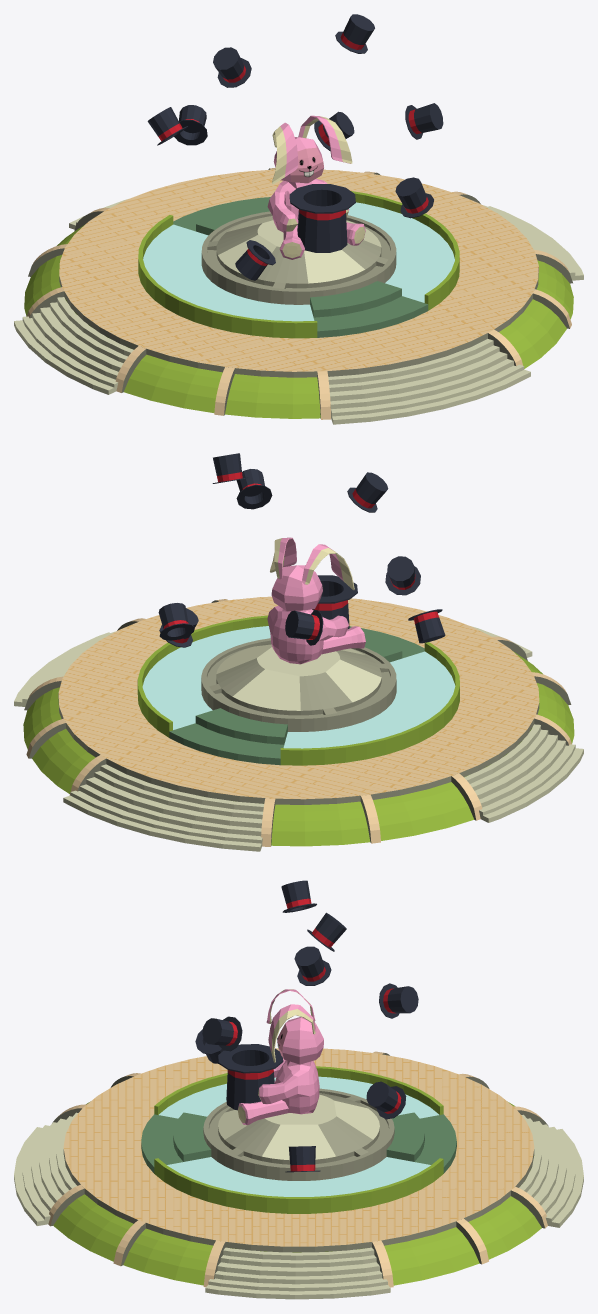
File: D4_Roundabout_2.fbx
The picture shows the model from 3 angles, top to bottom: view 1: azimuth 30°, elevation 25°; view 2: azimuth 150°, elevation 25°; view 3: azimuth 270°, elevation 25°; orthographic projection. The views are drawn at different scales.
Parts seen in each view (by area): view 1: Circle.034, Circle.054, Circle.053, Circle.035, Cylinder.132, Circle.051, Circle.044, Circle.052, Cylinder.134, Circle.046, Cylinder.137, Cylinder.141 (+10 smaller); view 2: Circle.034, Circle.054, Circle.053, Circle.045, Circle.052, Circle.044, Cylinder.132, Circle.051, Cylinder.134, Circle.046, Cylinder.135, Cylinder.139 (+10 smaller); view 3: Circle.034, Circle.054, Circle.046, Cylinder.132, Circle.052, Circle.053, Circle.051, Circle.045, Circle.035, Cylinder.136, Cylinder.140, Cylinder.139 (+9 smaller).
Part boxes in pixels (x1,y1,x2,y2): Circle.034: [24, 169, 573, 418]; Circle.054: [201, 211, 396, 304]; Circle.053: [143, 202, 454, 321]; Circle.035: [328, 339, 530, 424]; Cylinder.132: [267, 137, 365, 259]; Circle.051: [173, 197, 428, 337]; Circle.044: [14, 297, 133, 394]; Circle.052: [138, 191, 459, 338]; Cylinder.134: [272, 115, 352, 184]; Circle.046: [482, 205, 583, 280]; Cylinder.137: [213, 47, 251, 87]; Cylinder.141: [395, 177, 433, 218]; Circle.034: [23, 596, 574, 846]; Circle.054: [201, 638, 396, 731]; Circle.053: [142, 626, 455, 748]; Circle.045: [63, 764, 264, 851]; Circle.052: [137, 615, 459, 765]; Circle.044: [464, 724, 583, 822]; Cylinder.132: [267, 565, 365, 664]; Circle.051: [169, 626, 424, 765]; Cylinder.134: [270, 537, 354, 590]; Circle.046: [14, 631, 116, 706]; Cylinder.135: [385, 556, 420, 595]; Cylinder.139: [236, 469, 272, 509]; Circle.034: [53, 1048, 541, 1285]; Circle.054: [203, 1088, 394, 1180]; Circle.046: [205, 1247, 390, 1299]; Cylinder.132: [218, 1017, 323, 1125]; Circle.052: [154, 1066, 443, 1213]; Circle.053: [159, 1076, 439, 1196]; Circle.051: [141, 1112, 456, 1173]; Circle.045: [519, 1114, 583, 1227]; Circle.035: [14, 1112, 78, 1225]; Cylinder.136: [379, 983, 418, 1018]; Cylinder.140: [366, 1081, 406, 1119]; Cylinder.139: [202, 1016, 242, 1051].
Bounding box in the file's own units: 3911 × 2014 × 3911.
Materials: 5 (5 with a texture image).
